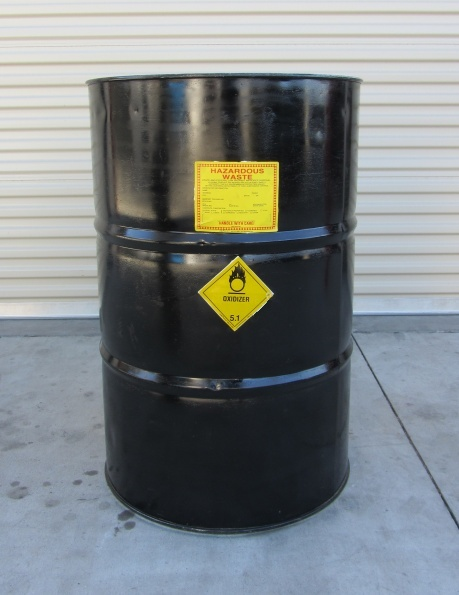Oxidizer: (196, 256, 275, 332)
